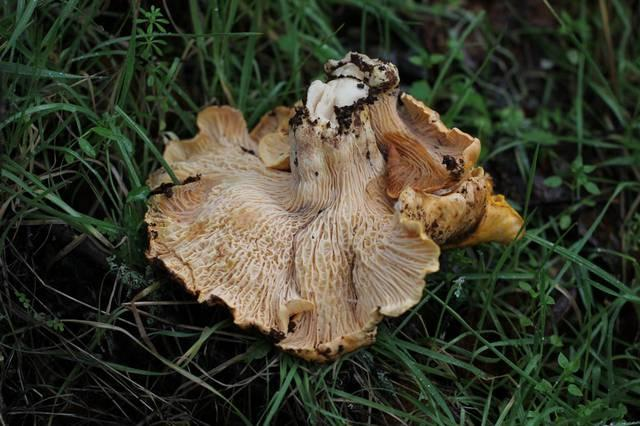Edible Mushroom: (141, 49, 526, 364)
